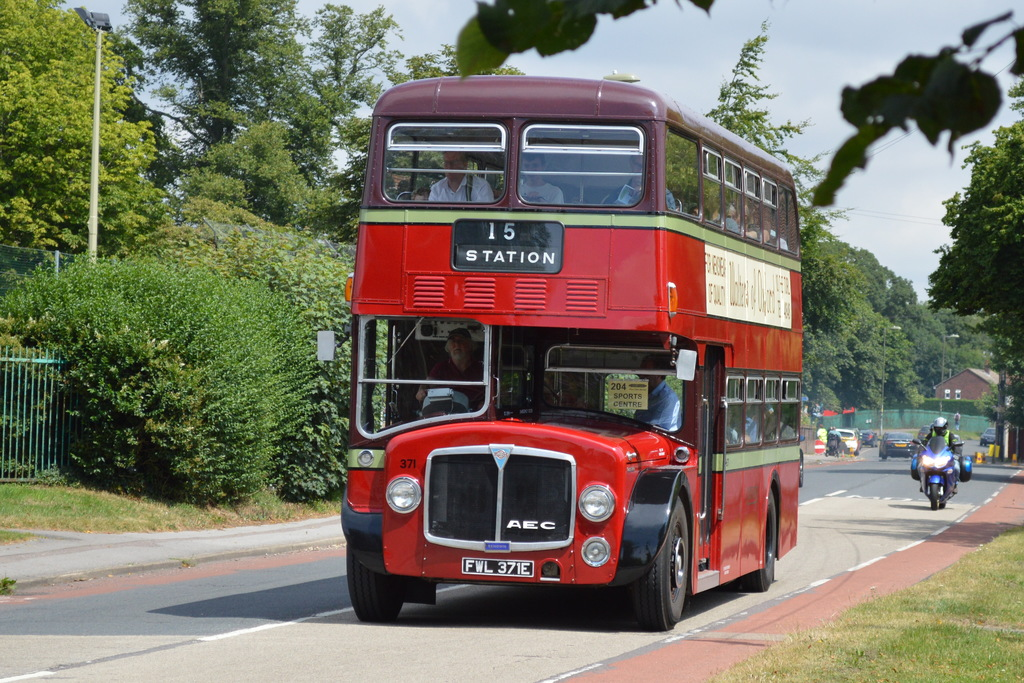Bus: (309, 70, 807, 633)
